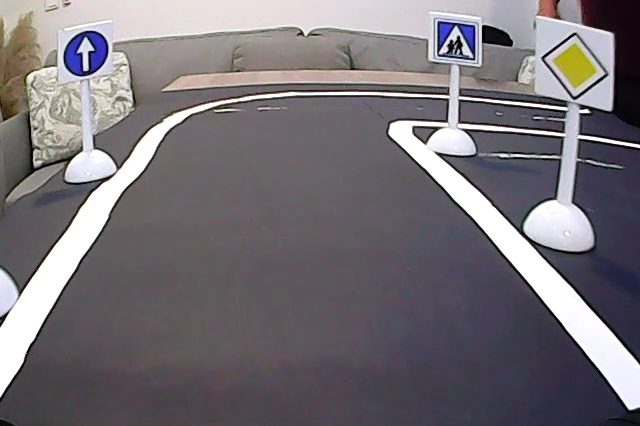school crossing: (434, 18, 481, 65)
